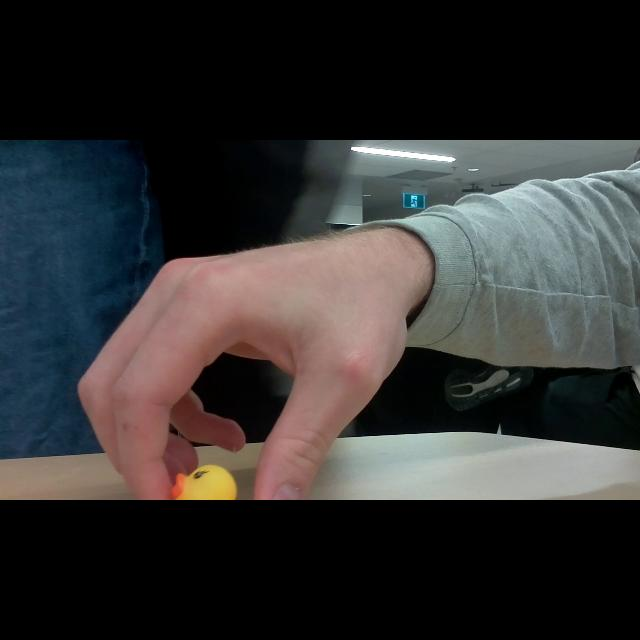duck_regular: (169, 464, 241, 501)
